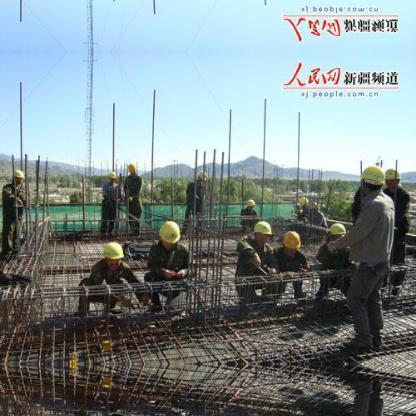helmet: (360, 163, 387, 188), (157, 221, 181, 245), (280, 229, 305, 250), (101, 241, 127, 260), (326, 220, 348, 235), (384, 169, 402, 185), (251, 223, 273, 236), (12, 170, 28, 181), (125, 163, 139, 173), (197, 169, 208, 181), (245, 198, 256, 210), (298, 196, 309, 205), (111, 169, 118, 179)
